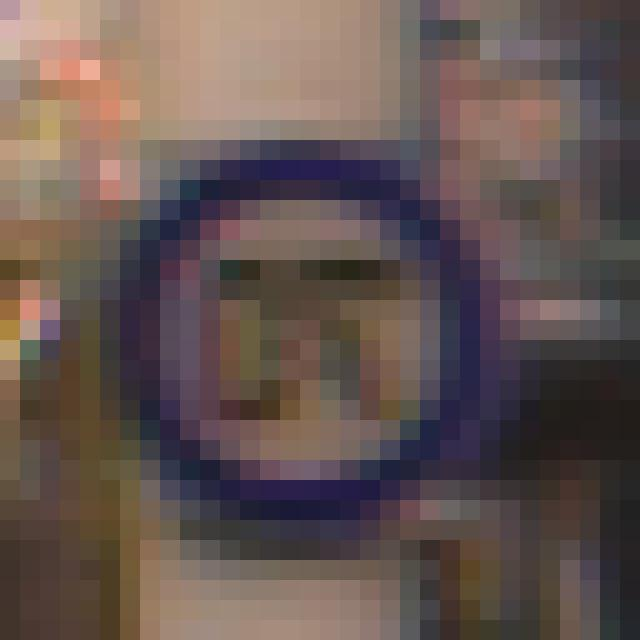SPEED LIMIT 70: (119, 158, 497, 526)
